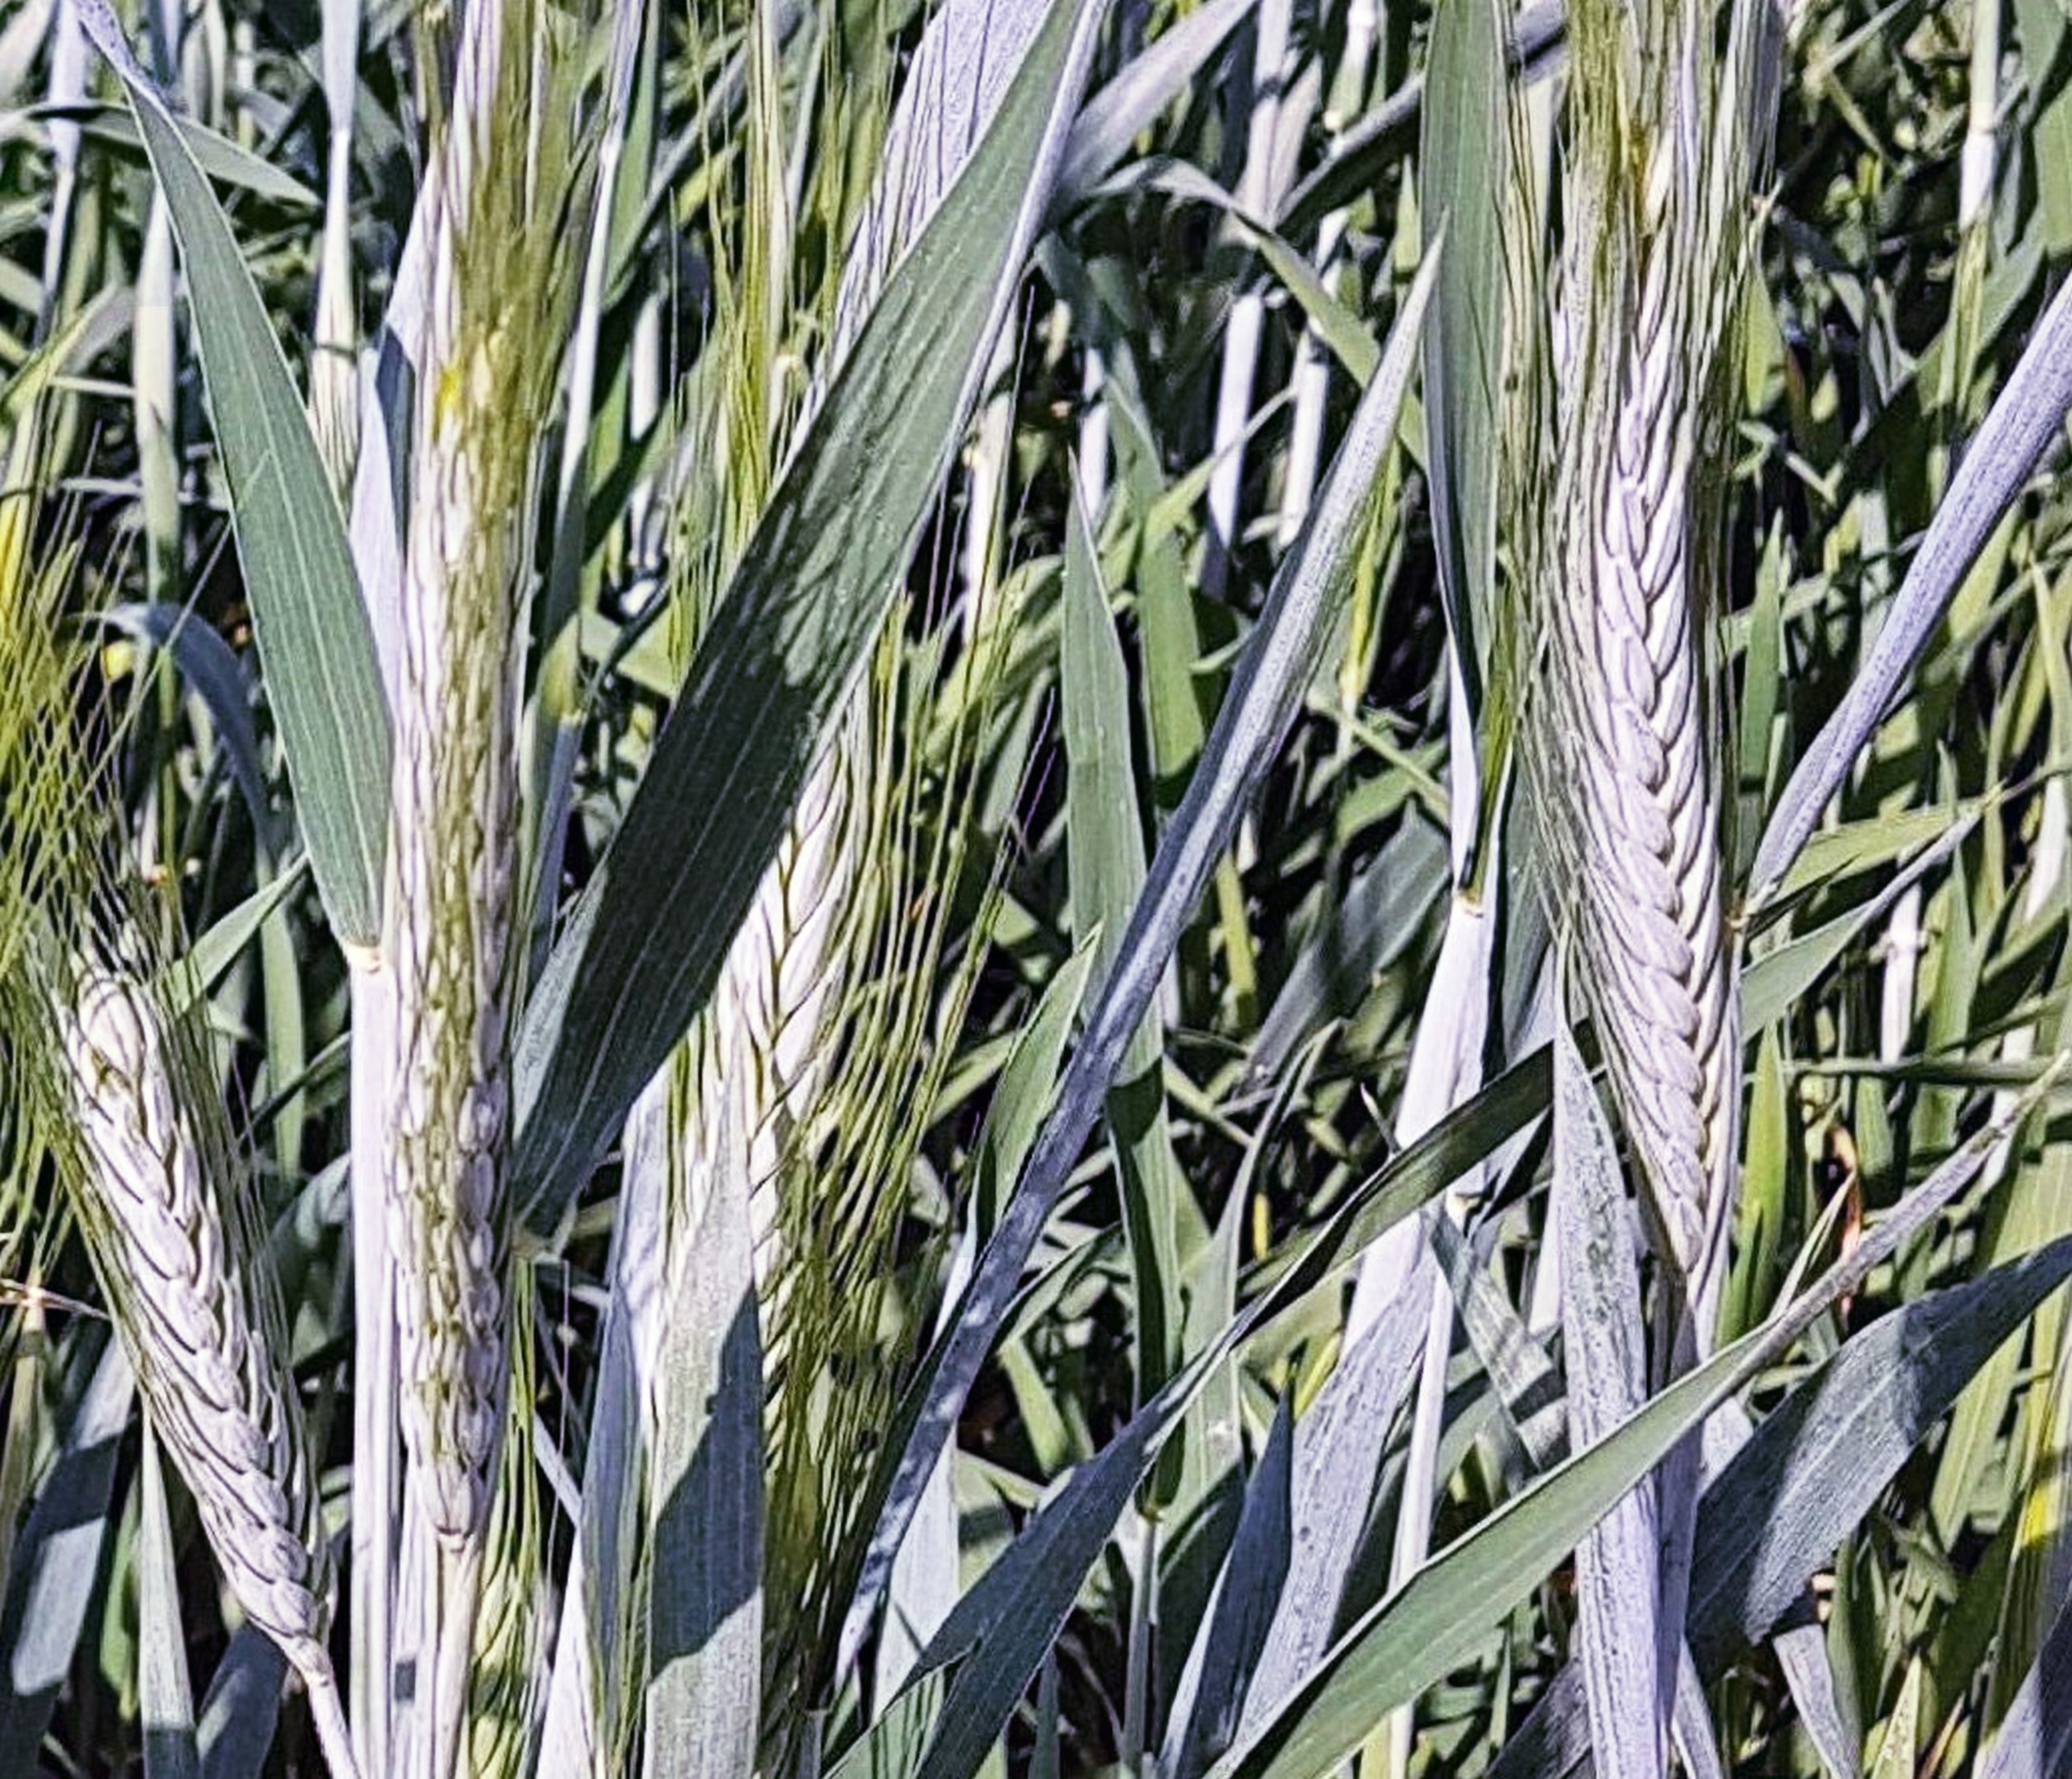Healthy Wheat: (1547, 317, 1815, 1200), (56, 985, 352, 1633)
